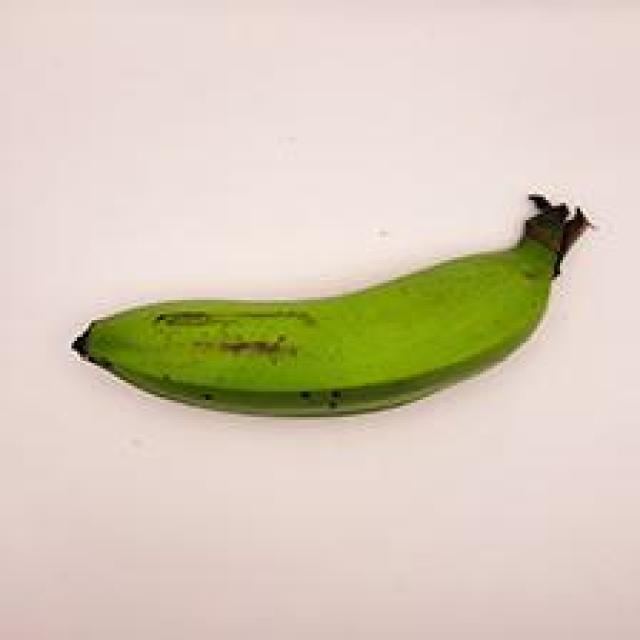Raw: (49, 162, 599, 452)
